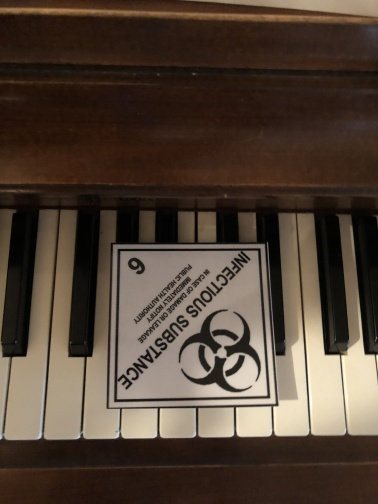InfectiousSubstance: (108, 242, 278, 408)
